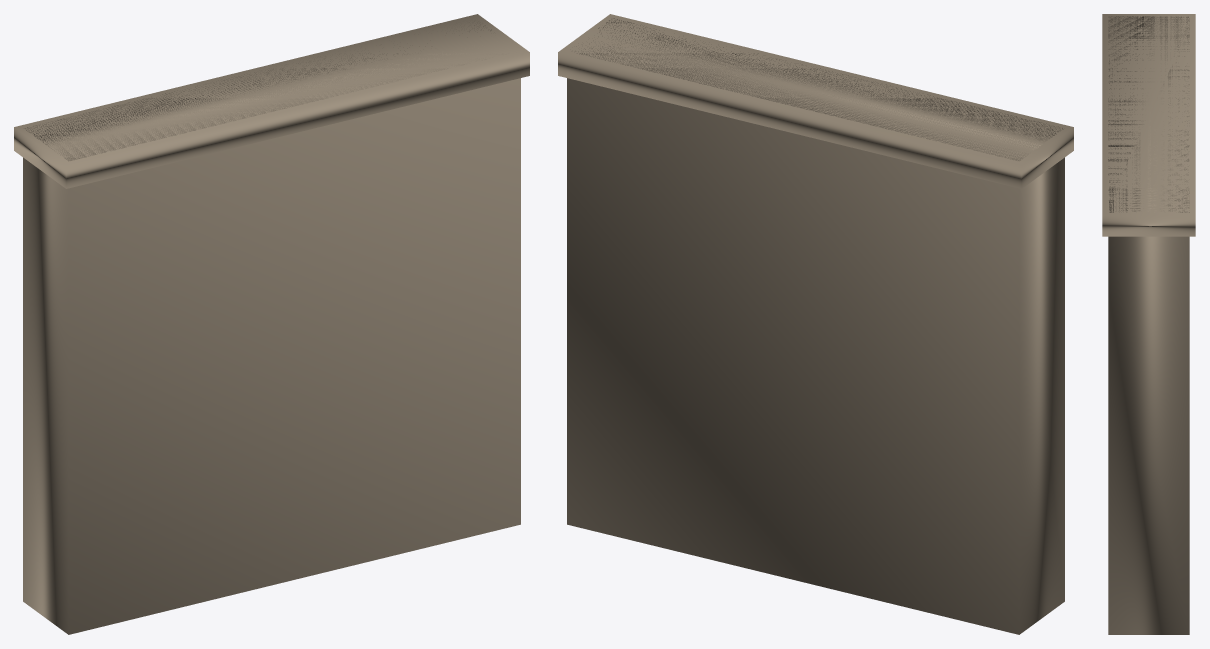
File: wall.obj
3 renders of one model, left to right at view 1: azimuth 30°, elevation 25°; view 2: azimuth 150°, elevation 25°; view 3: azimuth 270°, elevation 25°, orthographic. The views are drawn at different scales.
Bounding box in the file's own units: 4.1 × 4 × 0.8.
